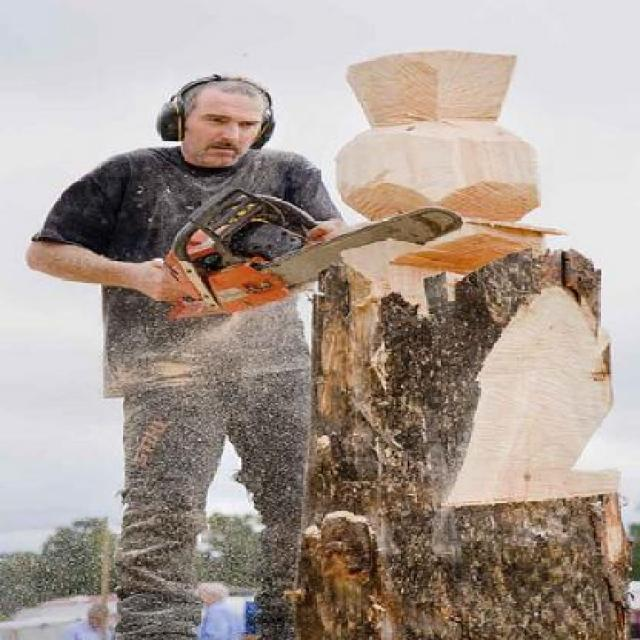Chainsaw: (158, 182, 465, 318)
